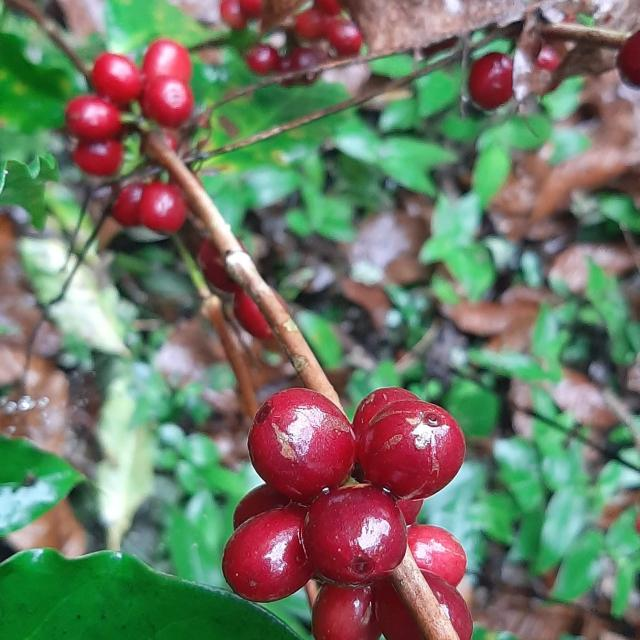Ripe: (248, 388, 356, 505), (303, 484, 408, 588), (358, 400, 466, 499), (222, 504, 314, 603), (111, 181, 186, 234), (312, 585, 381, 640), (408, 525, 468, 587), (91, 52, 143, 108), (139, 75, 194, 127), (64, 94, 121, 142), (138, 181, 186, 234), (470, 52, 514, 109), (142, 38, 192, 82), (198, 239, 238, 292), (234, 288, 274, 340), (72, 139, 123, 176)
